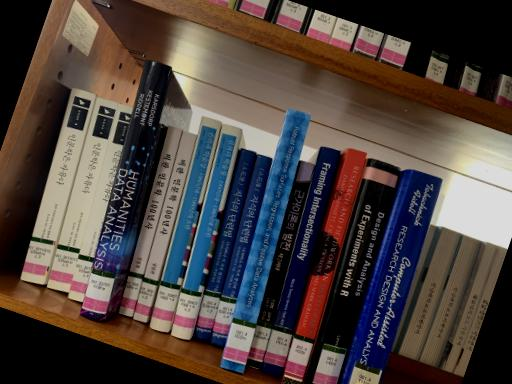book-spine: (220, 108, 310, 374), (79, 60, 171, 320), (343, 169, 442, 384), (306, 158, 399, 384), (281, 148, 367, 384), (260, 146, 340, 377), (148, 116, 221, 332), (170, 124, 242, 341), (19, 88, 96, 284), (245, 160, 314, 369), (45, 97, 117, 293), (67, 104, 133, 302), (192, 147, 256, 341), (132, 131, 196, 323), (118, 126, 182, 317), (210, 154, 272, 347)
